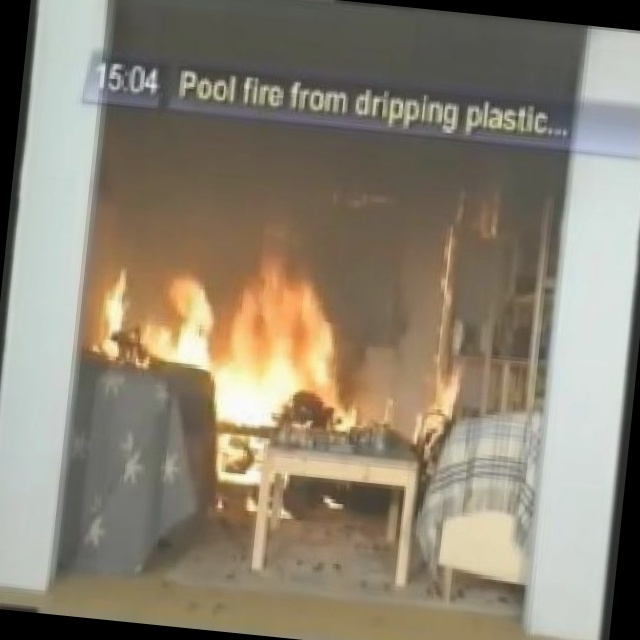fire: (82, 238, 376, 428)
